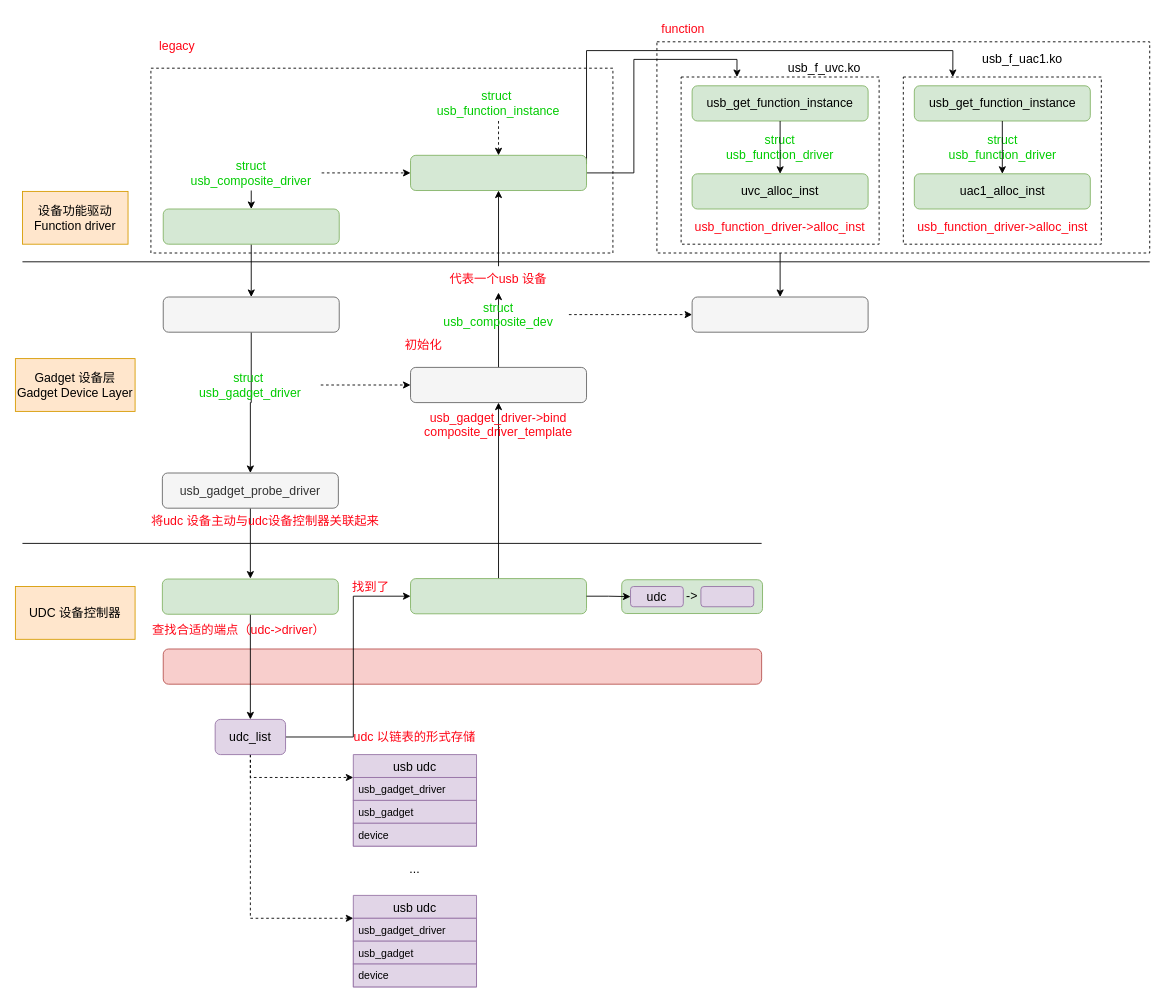
The diagram is 1166 pixels wide and 1004 high, and some of its shapes have lost their labels. The shapes that lost their labels are listed below. From the top down, each one's box as (x1, y1, x2, y2) in pixels, then its label:
(410, 154, 587, 191): webcam_bind
(162, 208, 339, 244): module_usb_composite_driver module_driver
(162, 296, 339, 332): usb_composite_probe
(691, 296, 868, 332): usb_add_config
(410, 367, 587, 403): composite_bind
(161, 578, 338, 614): list_for_each_entry
(410, 578, 587, 614): udc_bind_to_driver
(700, 586, 754, 607): gadget
(162, 648, 762, 684): udc core
